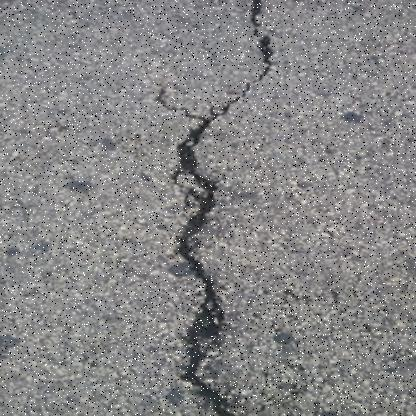Cracks: (153, 0, 288, 415)
